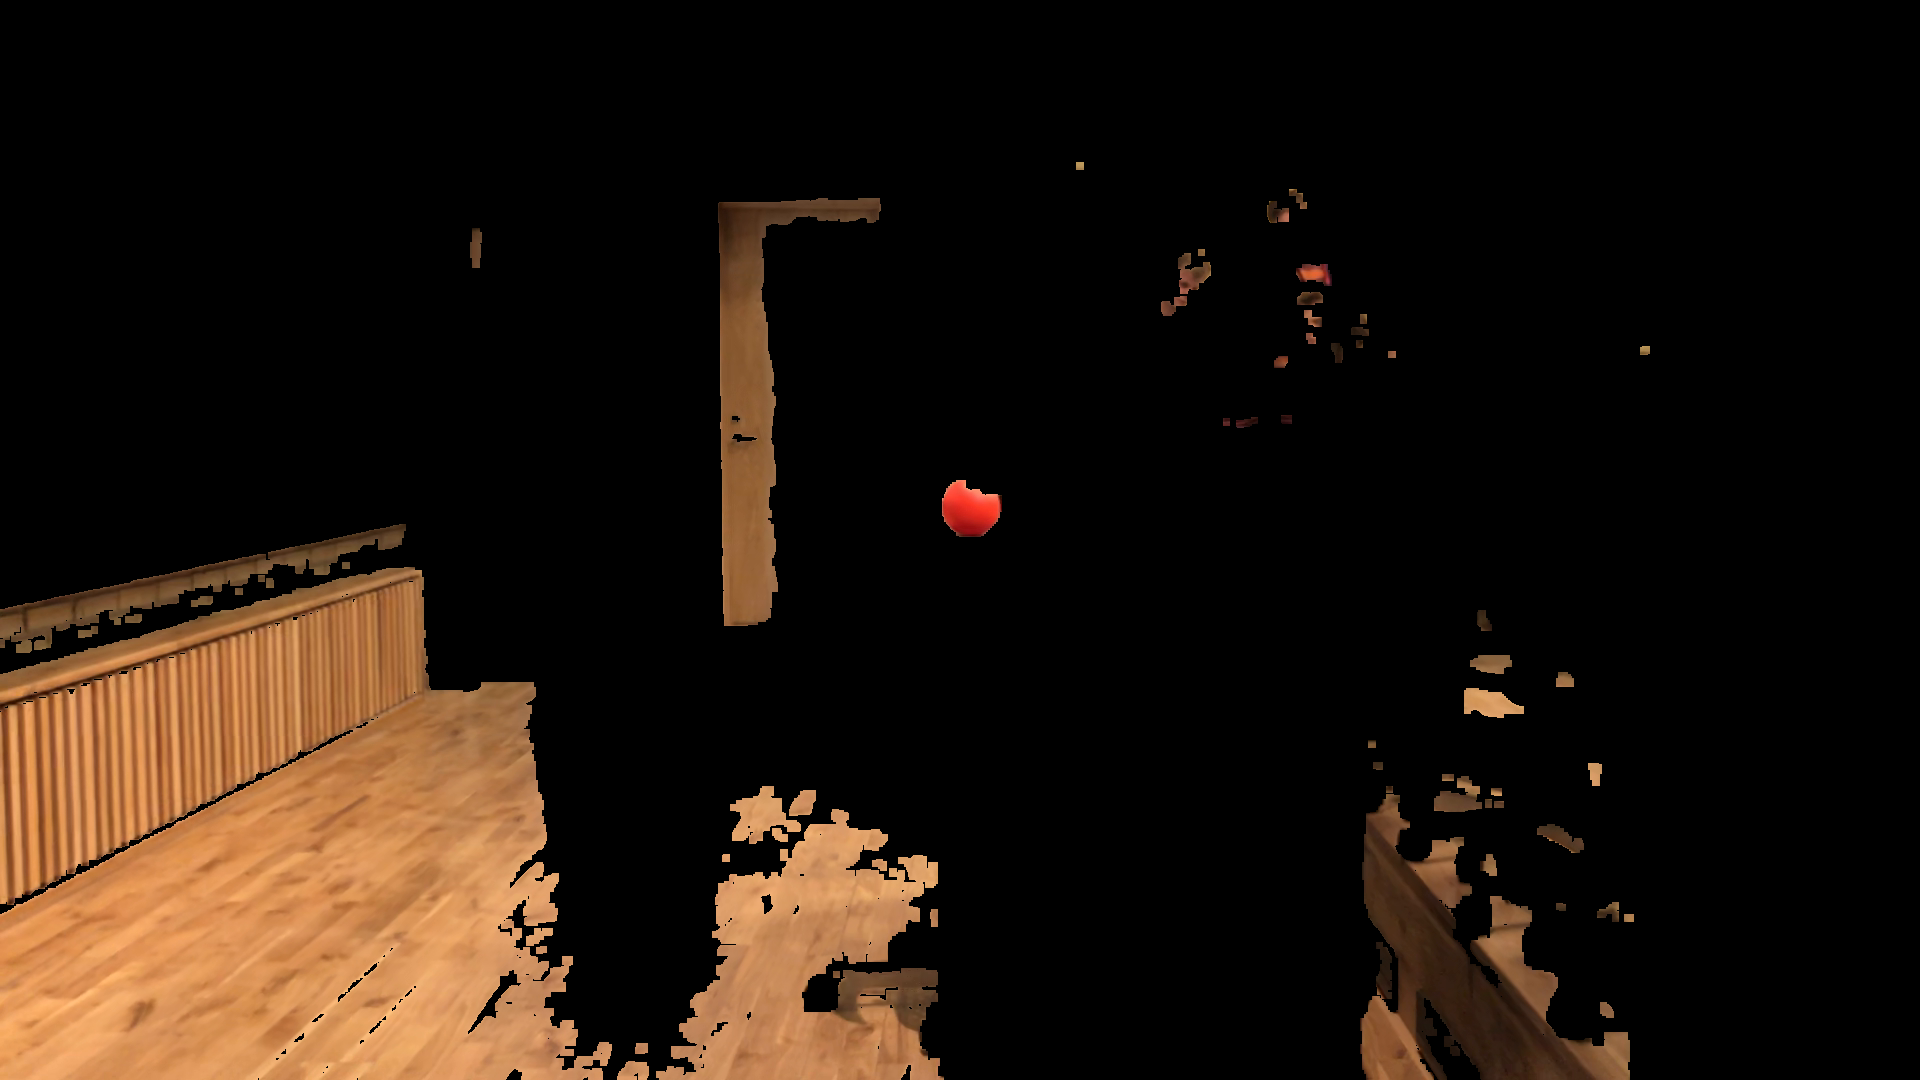Ball: (945, 473, 1011, 550)
